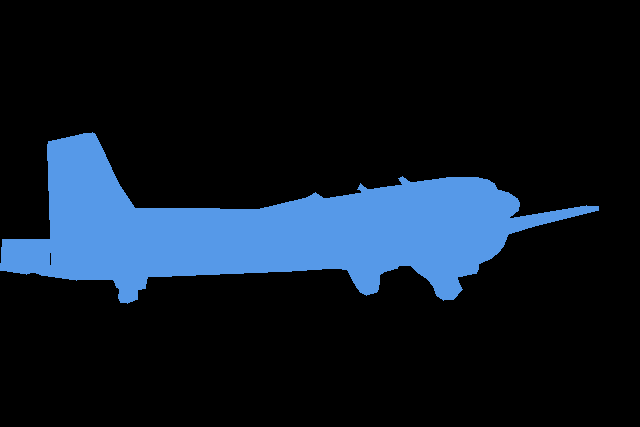Airplane: (34, 132, 598, 304), (0, 238, 50, 274)
